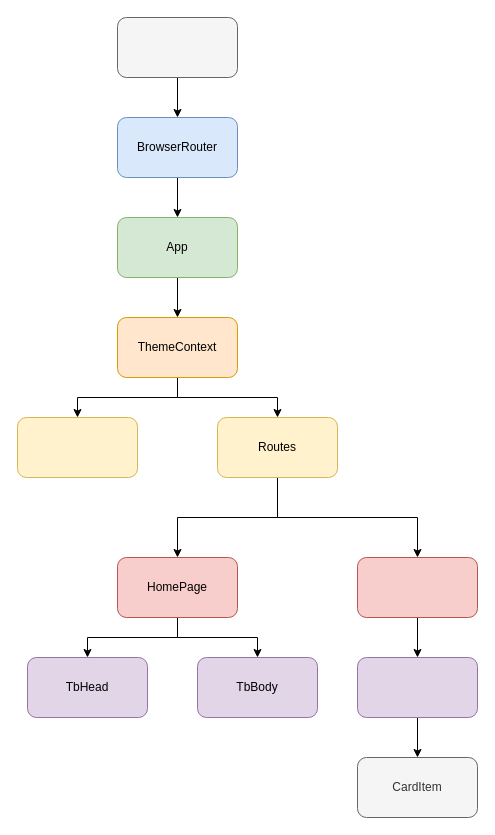
The diagram is 495 pixels wide and 835 high, and some of its shapes have lost their labels. The box of each missing label's shape, as (x1, y1, x2, y2) in pixels:
CardList: (356, 656, 478, 718)
CountryPage: (356, 556, 478, 618)
HeaderApp: (16, 416, 138, 478)
Redux State: (116, 16, 238, 78)
